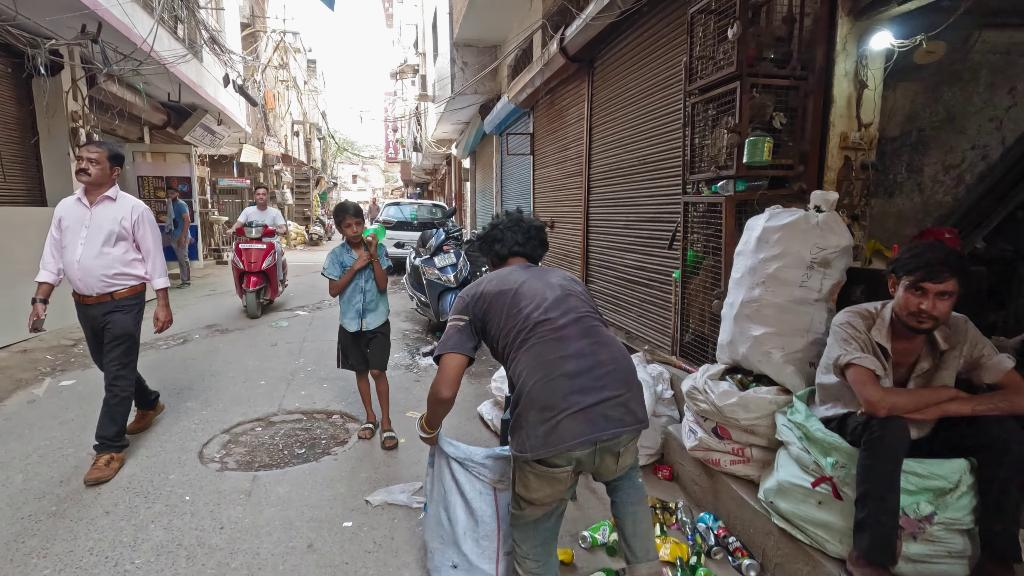garbage: (715, 191, 849, 373), (683, 372, 785, 467)
